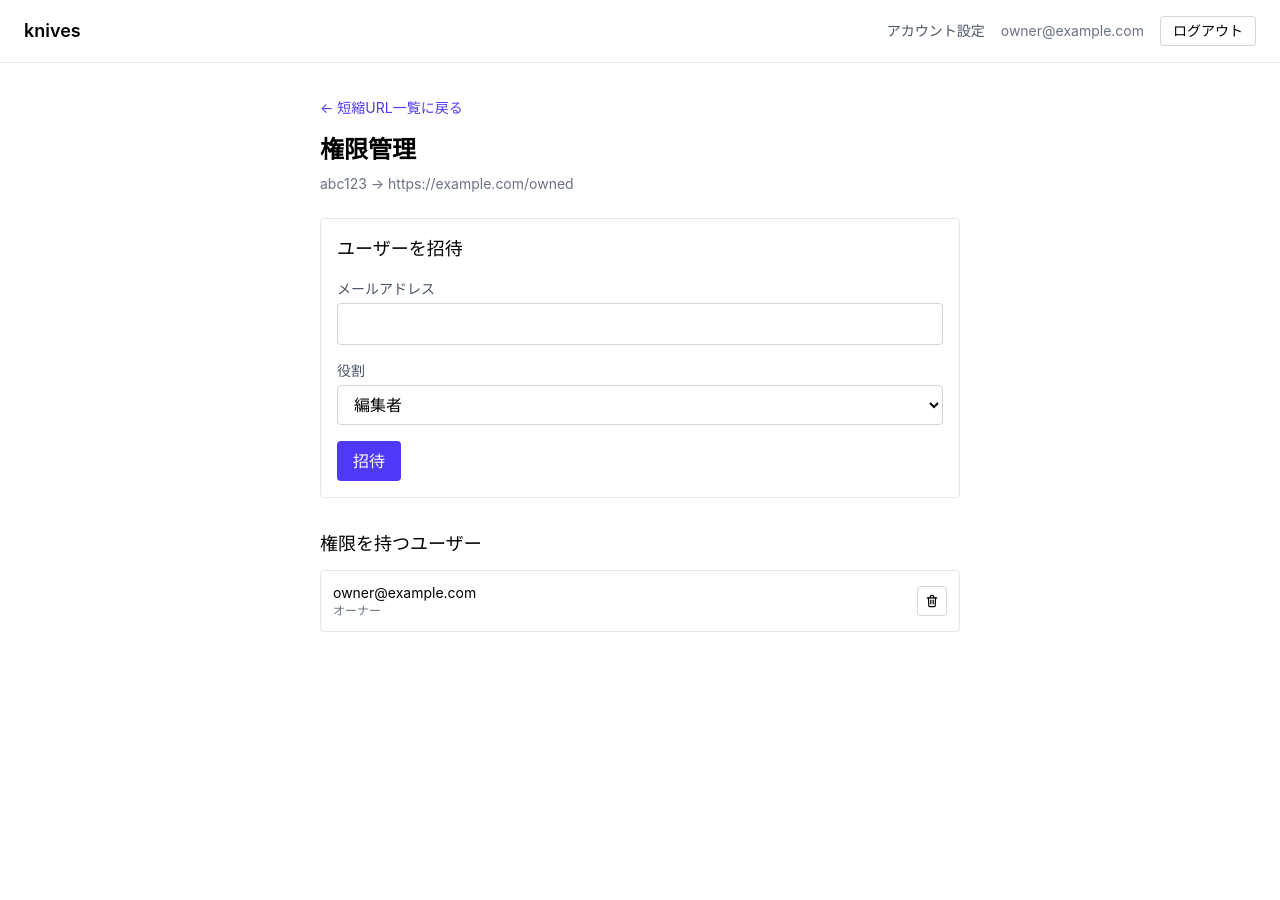
Test case: ShortURLPermissionsPage › shows a conflict error when revoking the last owner is refused
This screenshot has width=1280, height=900.
Expected: the heading "権限を持つユーザー" is shown, [320,533,482,554]
Expected: the text "owner@example.com" below "権限を持つユーザー" is shown, [333,584,476,601]
Click the button named "削除": click(932, 601) [917,586,947,616]
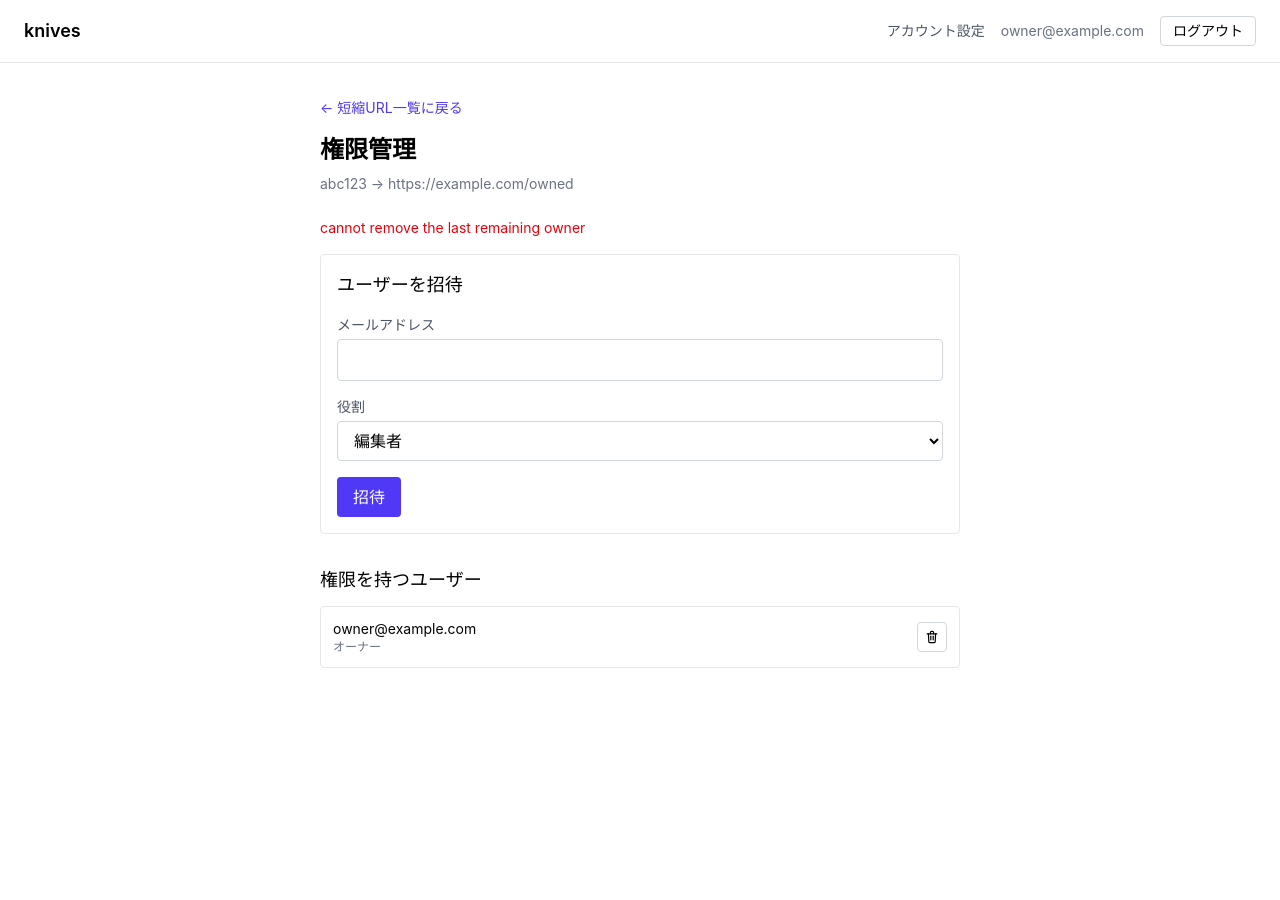
Expected: the text "owner@example.com" below "権限を持つユーザー" is shown, [333,620,476,637]
Expected: the text "cannot remove the last remaining owner" is shown, [320,219,585,236]
